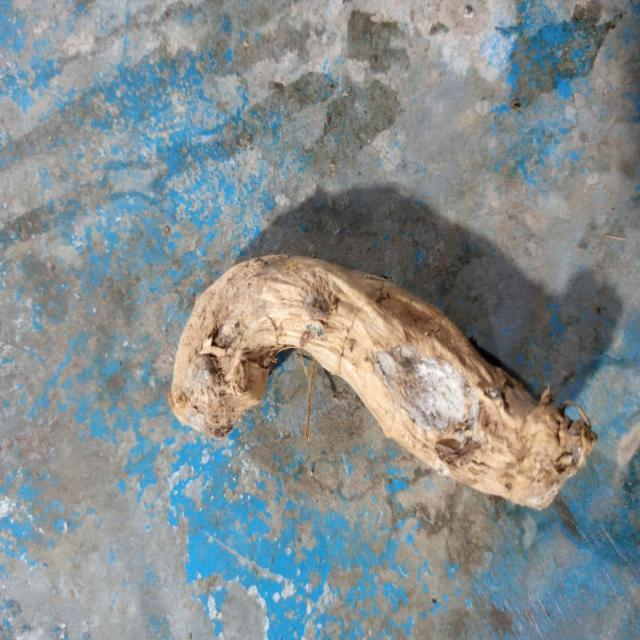ginger: (178, 260, 600, 510)
